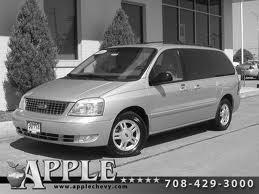car: (10, 41, 244, 159)
